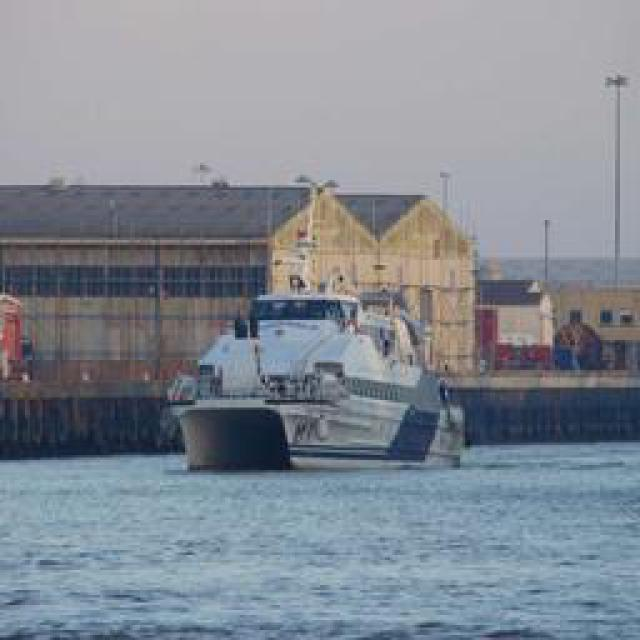Ship: (180, 295, 465, 470)
